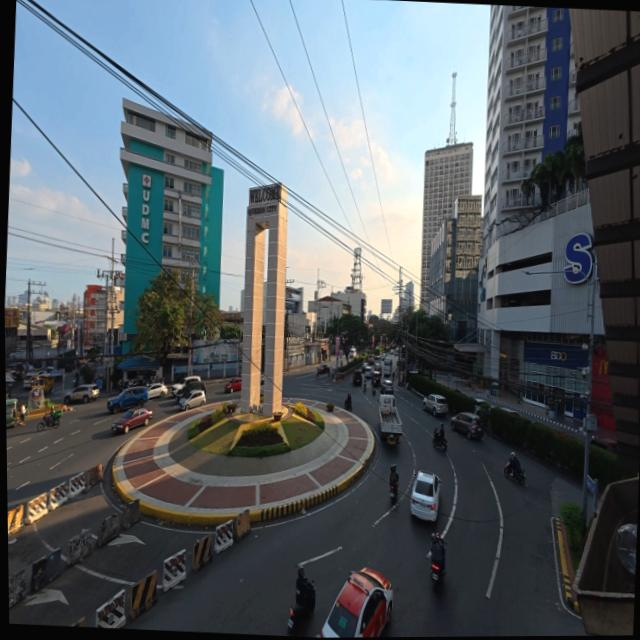Jeepneys: (6, 399, 17, 426)
bus: (382, 358, 393, 377)
car: (319, 567, 393, 637), (410, 471, 441, 521), (107, 386, 149, 413), (112, 408, 152, 433), (451, 413, 483, 439), (64, 385, 99, 405), (176, 381, 206, 402), (179, 390, 206, 411), (172, 376, 200, 395), (423, 395, 448, 416), (591, 438, 617, 454), (32, 375, 54, 393), (474, 398, 493, 414), (148, 383, 167, 399), (225, 377, 242, 392), (499, 406, 521, 417), (24, 374, 38, 390), (380, 379, 394, 394), (316, 362, 331, 375), (354, 369, 363, 385), (373, 372, 381, 387), (373, 362, 383, 373), (361, 362, 368, 376), (364, 365, 372, 377), (381, 353, 385, 360), (393, 350, 397, 356)
motorcycle: (287, 582, 316, 636), (504, 461, 525, 484), (431, 559, 444, 590), (37, 415, 59, 432), (433, 431, 448, 452), (390, 482, 397, 505), (345, 400, 353, 411), (373, 387, 375, 395), (364, 384, 366, 391)
trucks: (379, 394, 401, 444)
vans: (349, 347, 356, 359)
